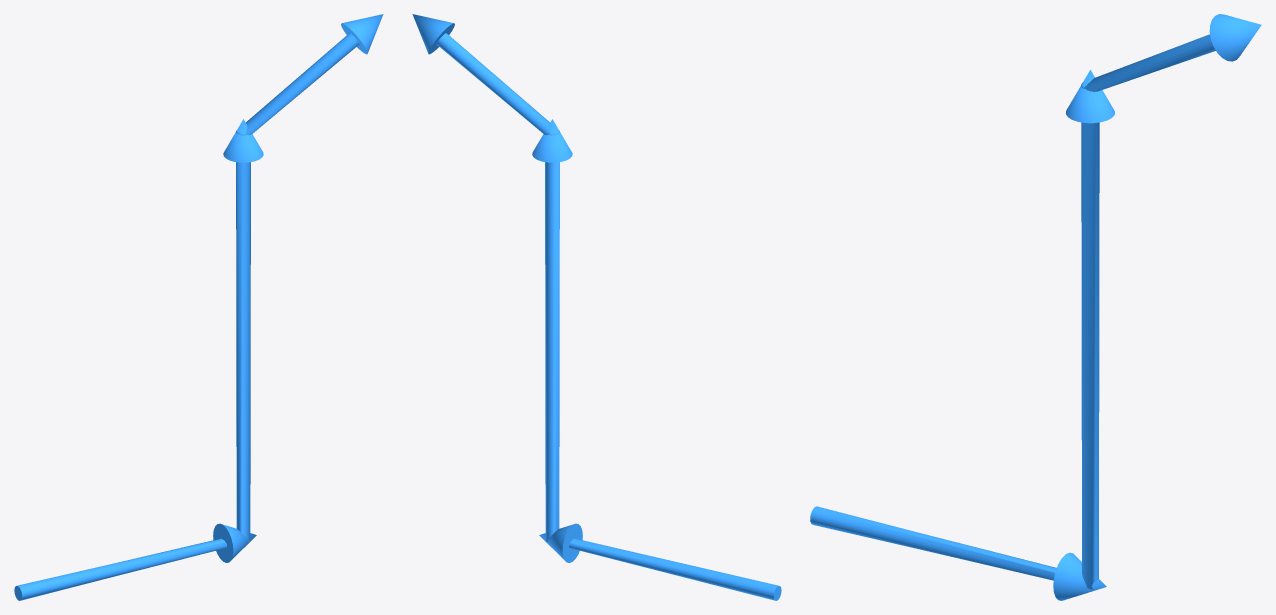
Rendered from firewater_monitor_flow.glb.
3 views of the same model, side by side, from view 1: azimuth 30°, elevation 25°; view 2: azimuth 150°, elevation 25°; view 3: azimuth 330°, elevation 25° (orthographic). The views are drawn at different scales.
Parts seen in each view (by area): view 1: water; view 2: water; view 3: water.
Boxes of the visible parts, bbox=[...] form: water: bbox=[14, 14, 383, 600]; water: bbox=[412, 14, 781, 600]; water: bbox=[810, 14, 1261, 600].
Size of the model in its own units: 1.62 by 2.16 by 0.156.
